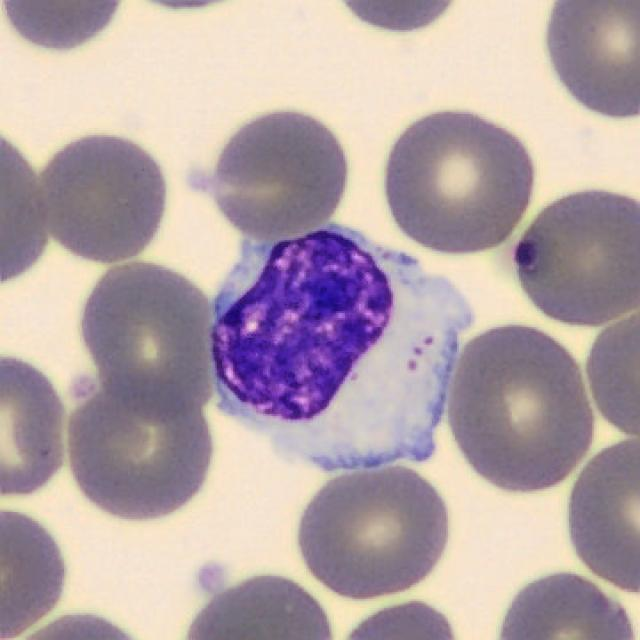Linfocito atipico: (212, 226, 473, 469)
